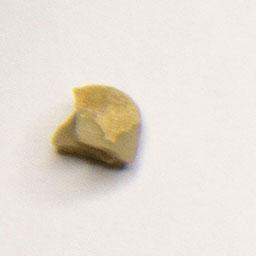defect: (49, 81, 146, 172)
